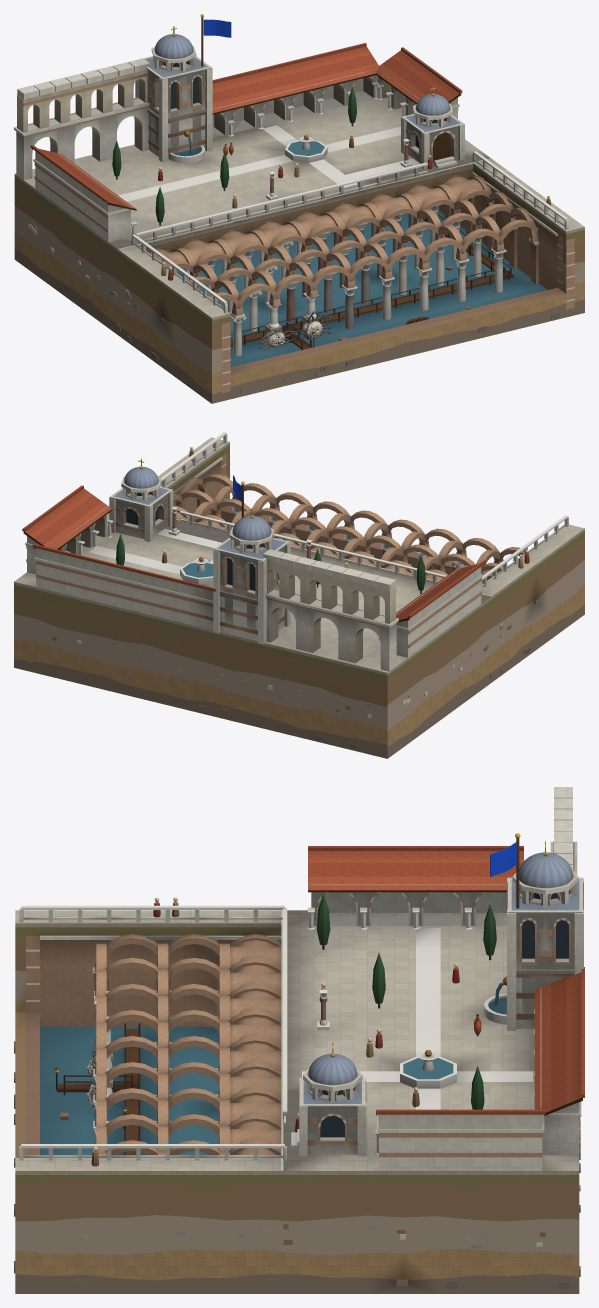
File: lm_yerebatan.glb
3 renders of one model, top to bottom at view 1: azimuth 30°, elevation 25°; view 2: azimuth 150°, elevation 25°; view 3: azimuth 270°, elevation 25°, orthographic. The views are drawn at different scales.
Parts seen in each view (by area): view 1: lm_yerebatan; view 2: lm_yerebatan; view 3: lm_yerebatan.
Boxes of the visible parts, left/top/right/bottom form: lm_yerebatan: left=14, top=14, right=584, bottom=403; lm_yerebatan: left=14, top=432, right=584, bottom=758; lm_yerebatan: left=14, top=787, right=584, bottom=1293.
Size of the model in its own units: 2.04 by 1.13 by 1.85.
Materials: 1 (1 with a texture image).
